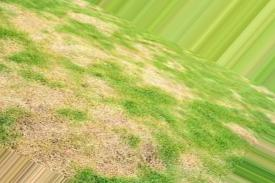patch: (26, 119, 145, 163), (3, 75, 65, 113), (72, 80, 119, 117), (122, 59, 181, 87), (53, 34, 102, 65), (12, 9, 51, 33), (227, 122, 263, 148), (1, 40, 28, 70), (174, 147, 210, 168), (73, 14, 113, 30), (165, 96, 187, 117)
